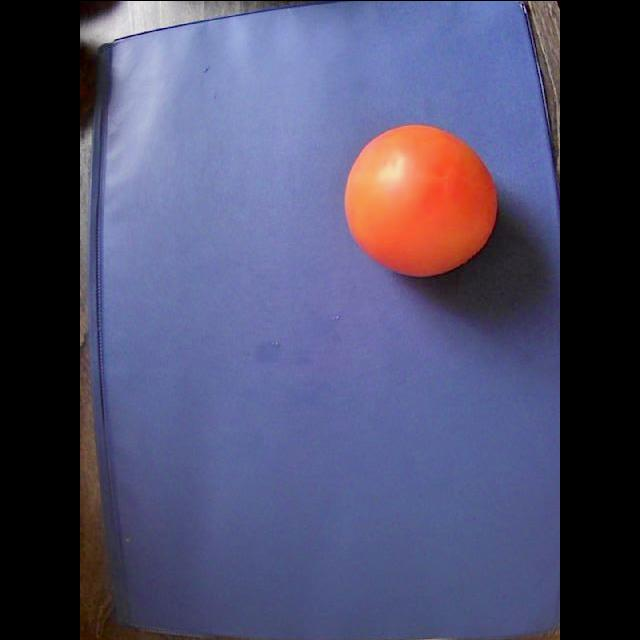tomate: (345, 125, 496, 275)
